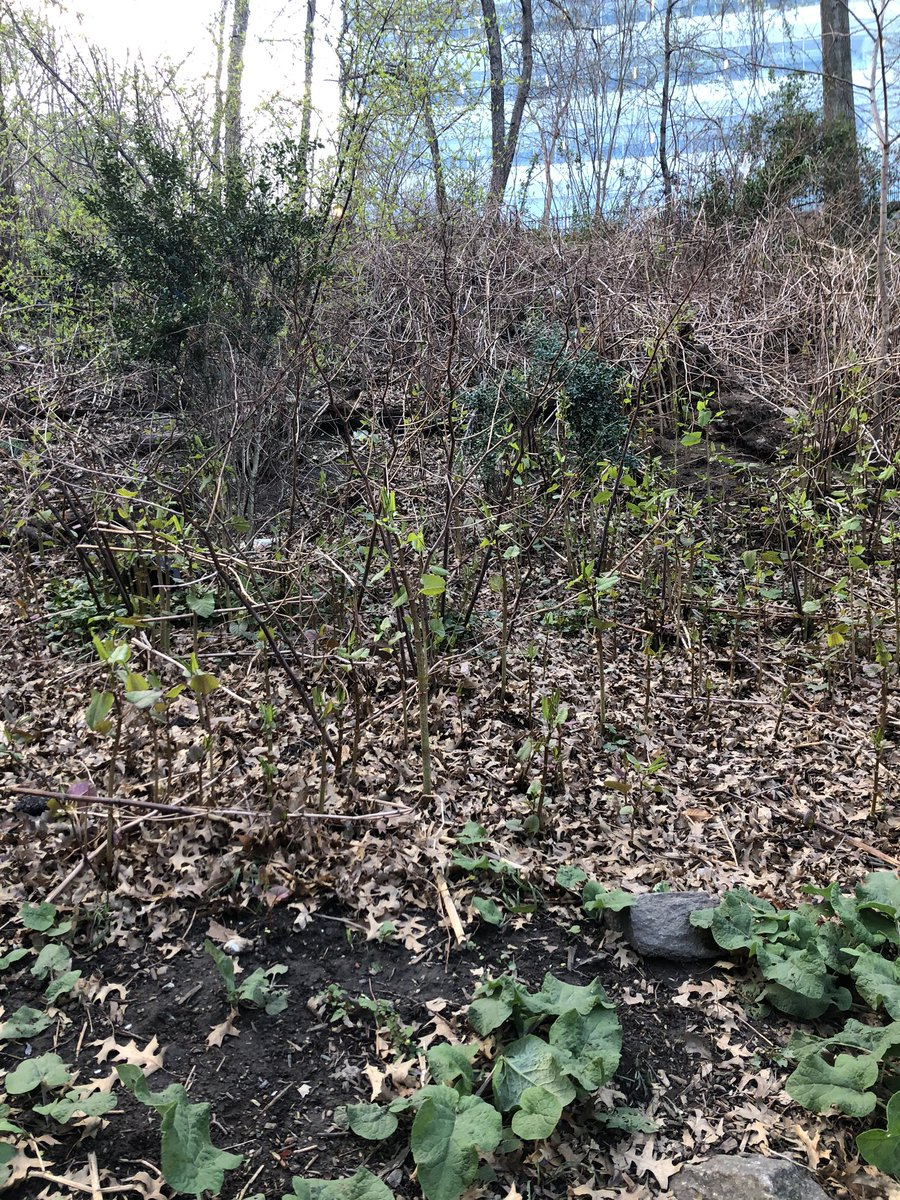vegetation: (1, 183, 869, 1200)
